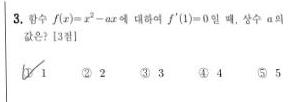choice: (20, 62, 36, 81)
not-choice: (255, 66, 269, 80), (80, 66, 93, 80), (138, 66, 152, 79), (197, 66, 210, 79)
